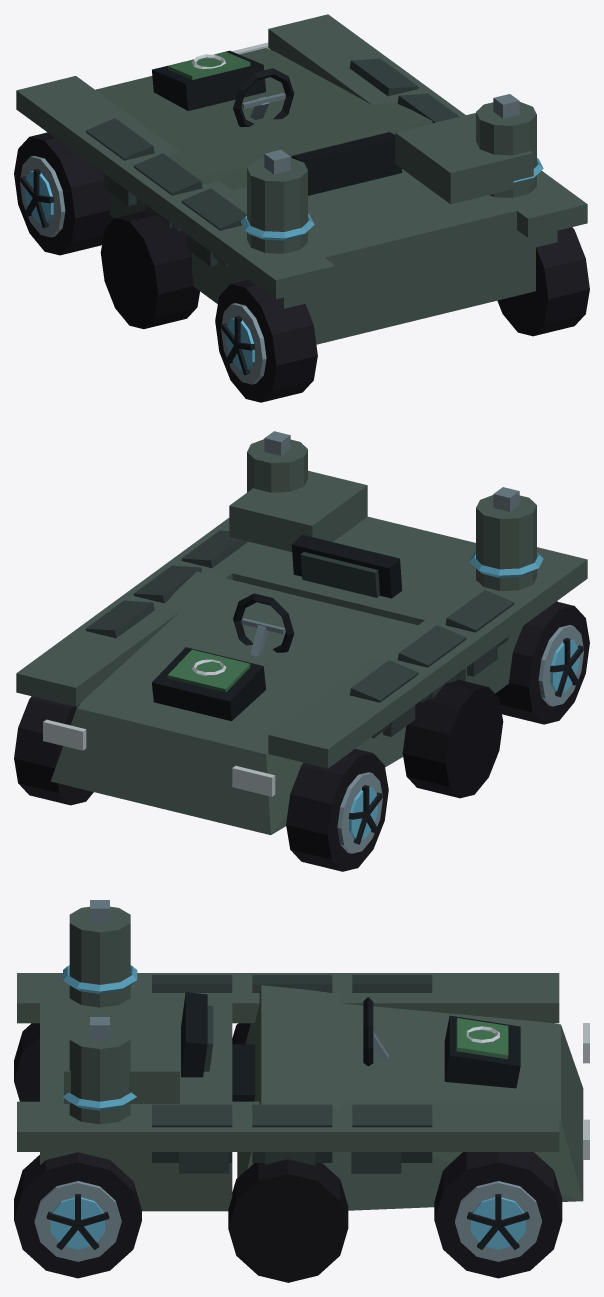
File: kart.glb
3 renders of one model, top to bottom at view 1: azimuth 30°, elevation 25°; view 2: azimuth 150°, elevation 25°; view 3: azimuth 270°, elevation 25°, orthographic. The views are drawn at different scales.
Visible parts, largest first — view 1: identity-apc-apc-armored-hull, identity-apc-motif-tanks, wheel-rear-left, wheel-front-left, identity-apc-motif-armor, wheel-rear-right, identity-apc-driver-cockpit, identity-apc-motif-scanner; view 2: identity-apc-apc-armored-hull, wheel-front-left, identity-apc-motif-tanks, identity-apc-motif-armor, wheel-rear-left, identity-apc-driver-cockpit, identity-apc-motif-scanner, wheel-front-right; view 3: identity-apc-apc-armored-hull, wheel-front-right, wheel-rear-right, identity-apc-motif-tanks, identity-apc-motif-armor, identity-apc-motif-scanner, identity-apc-driver-cockpit, wheel-rear-left.
Part boxes in pixels (x1,y1,x2,y2): identity-apc-apc-armored-hull: [16, 14, 587, 344]; identity-apc-motif-tanks: [240, 94, 543, 253]; wheel-rear-left: [215, 279, 317, 402]; wheel-front-left: [14, 132, 114, 255]; identity-apc-motif-armor: [85, 58, 459, 266]; wheel-rear-right: [497, 227, 589, 336]; identity-apc-driver-cockpit: [233, 68, 402, 195]; identity-apc-motif-scanner: [152, 50, 265, 110]; identity-apc-apc-armored-hull: [16, 470, 587, 835]; wheel-front-left: [286, 749, 388, 871]; identity-apc-motif-tanks: [247, 431, 543, 590]; identity-apc-motif-armor: [85, 530, 514, 738]; wheel-rear-left: [495, 601, 589, 724]; identity-apc-driver-cockpit: [233, 534, 402, 656]; identity-apc-motif-scanner: [152, 647, 265, 721]; wheel-front-right: [14, 696, 93, 805]; identity-apc-apc-armored-hull: [17, 973, 589, 1282]; wheel-front-right: [434, 1152, 562, 1278]; wheel-rear-right: [14, 1152, 141, 1278]; identity-apc-motif-tanks: [63, 900, 137, 1124]; identity-apc-motif-armor: [152, 975, 432, 1162]; identity-apc-motif-scanner: [444, 1015, 520, 1088]; identity-apc-driver-cockpit: [181, 992, 388, 1101]; wheel-rear-left: [14, 1023, 39, 1101].
Bounding box in the file's own units: 2.08 × 1.3 × 2.88.
